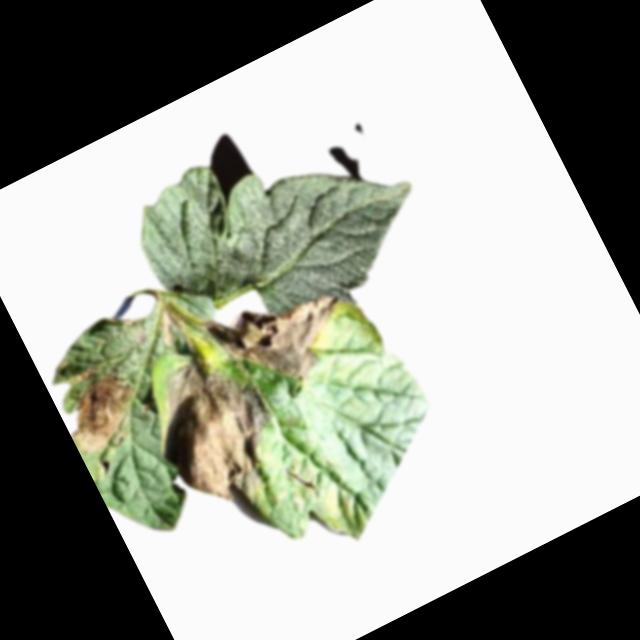Late_blight: (130, 333, 307, 528), (201, 263, 366, 410), (52, 362, 156, 462), (150, 307, 186, 351), (66, 362, 104, 389)
